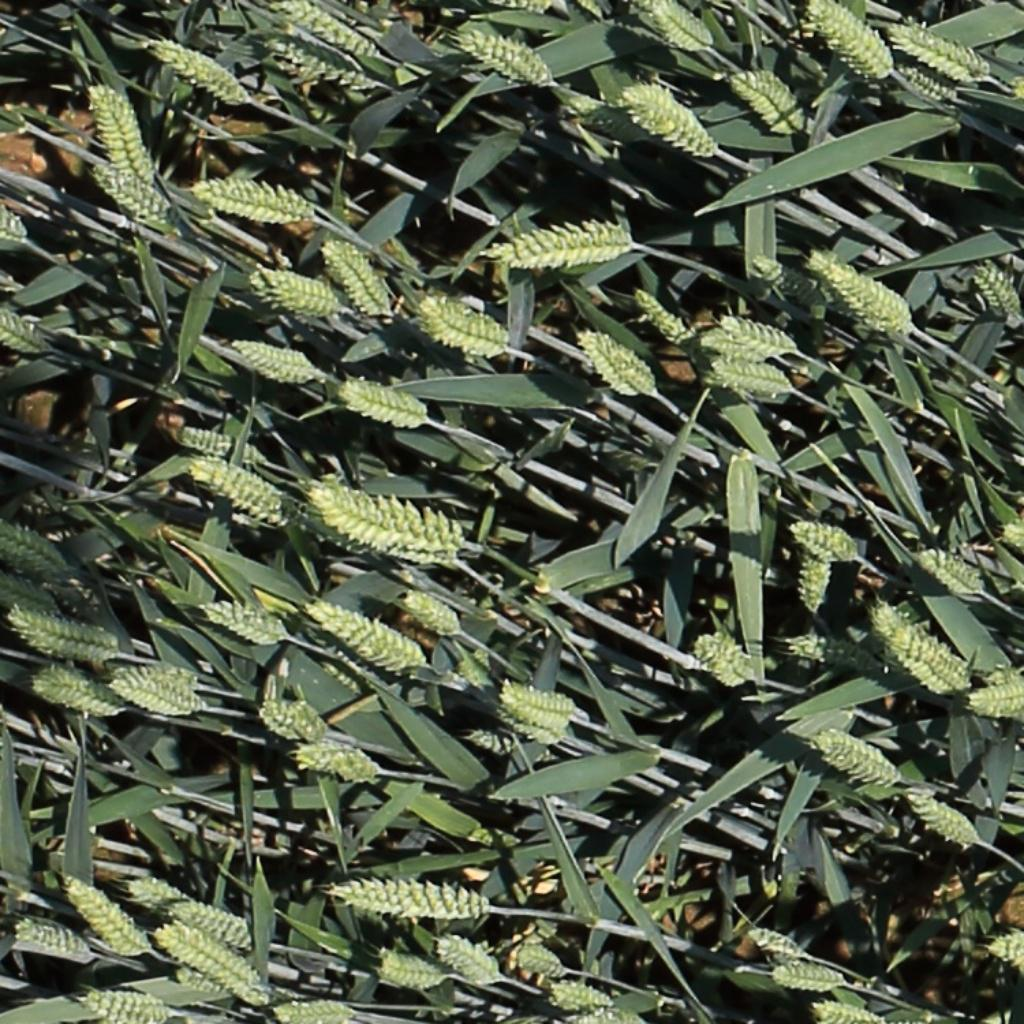0-0: (308, 474, 470, 568), (869, 597, 970, 691), (305, 600, 428, 672), (475, 222, 639, 270), (808, 251, 907, 330), (150, 39, 257, 109), (58, 873, 144, 958), (334, 877, 483, 925), (573, 322, 660, 401), (86, 83, 154, 184), (808, 2, 892, 79), (264, 35, 381, 89), (155, 927, 253, 991), (190, 175, 317, 224), (888, 24, 996, 81), (273, 0, 379, 56), (623, 87, 714, 152), (187, 460, 282, 522), (728, 66, 808, 138), (812, 725, 910, 782), (423, 297, 516, 357), (321, 240, 390, 320), (456, 28, 548, 86), (9, 613, 122, 660), (88, 165, 174, 226), (197, 598, 291, 650), (29, 664, 118, 716), (282, 737, 384, 780), (706, 350, 795, 399), (905, 790, 978, 849), (122, 874, 202, 925), (255, 690, 328, 744), (107, 678, 203, 719), (109, 656, 207, 696), (628, 283, 689, 345), (750, 251, 821, 304), (335, 382, 425, 423), (569, 94, 642, 144), (166, 894, 247, 938), (969, 256, 1022, 323), (252, 268, 337, 309), (496, 686, 575, 728), (694, 636, 757, 686), (173, 425, 258, 462), (916, 550, 987, 594), (431, 937, 498, 983), (647, 1, 708, 51), (2, 524, 64, 573), (798, 533, 834, 617), (496, 699, 568, 741), (783, 638, 877, 670), (716, 314, 794, 352), (232, 339, 311, 376), (10, 921, 88, 958), (787, 522, 858, 561), (317, 647, 372, 696), (897, 62, 968, 98), (400, 592, 458, 636), (2, 573, 57, 615), (965, 682, 1024, 718), (80, 995, 165, 1018), (742, 929, 801, 962), (453, 646, 497, 690), (1, 312, 49, 352), (700, 330, 761, 359), (374, 962, 446, 985), (811, 1002, 879, 1024), (547, 985, 613, 1007), (770, 969, 846, 988), (270, 1004, 350, 1022), (512, 950, 565, 977), (989, 944, 1024, 983), (465, 730, 514, 756), (1006, 522, 1024, 574), (1010, 79, 1024, 122)
